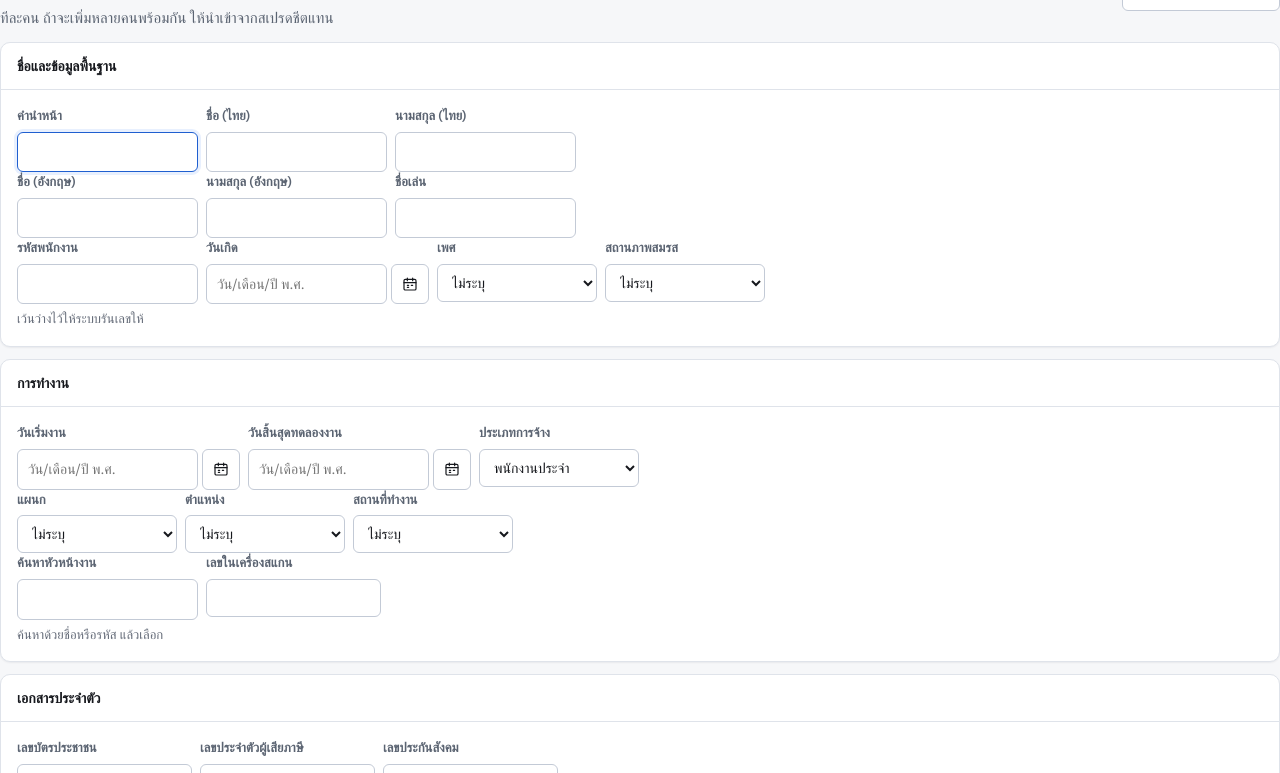
it: Adding one employee from the console (CW-065) › says so when the employee code is already used
Type "วิภา" into the field labelled "ชื่อ (ไทย)" at point(296, 152), box [206, 132, 387, 172]
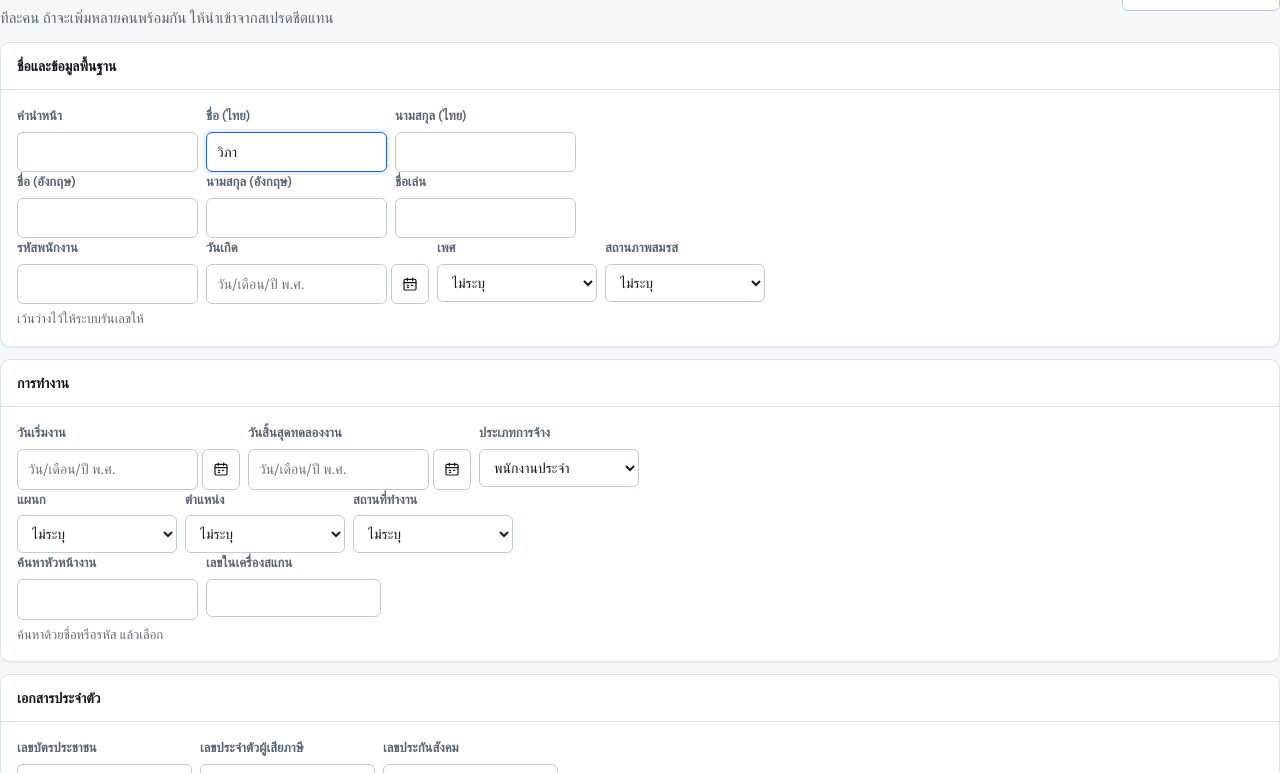
Type "ใจดี" into the field labelled "นามสกุล (ไทย)" at point(486, 152), box [395, 132, 576, 172]
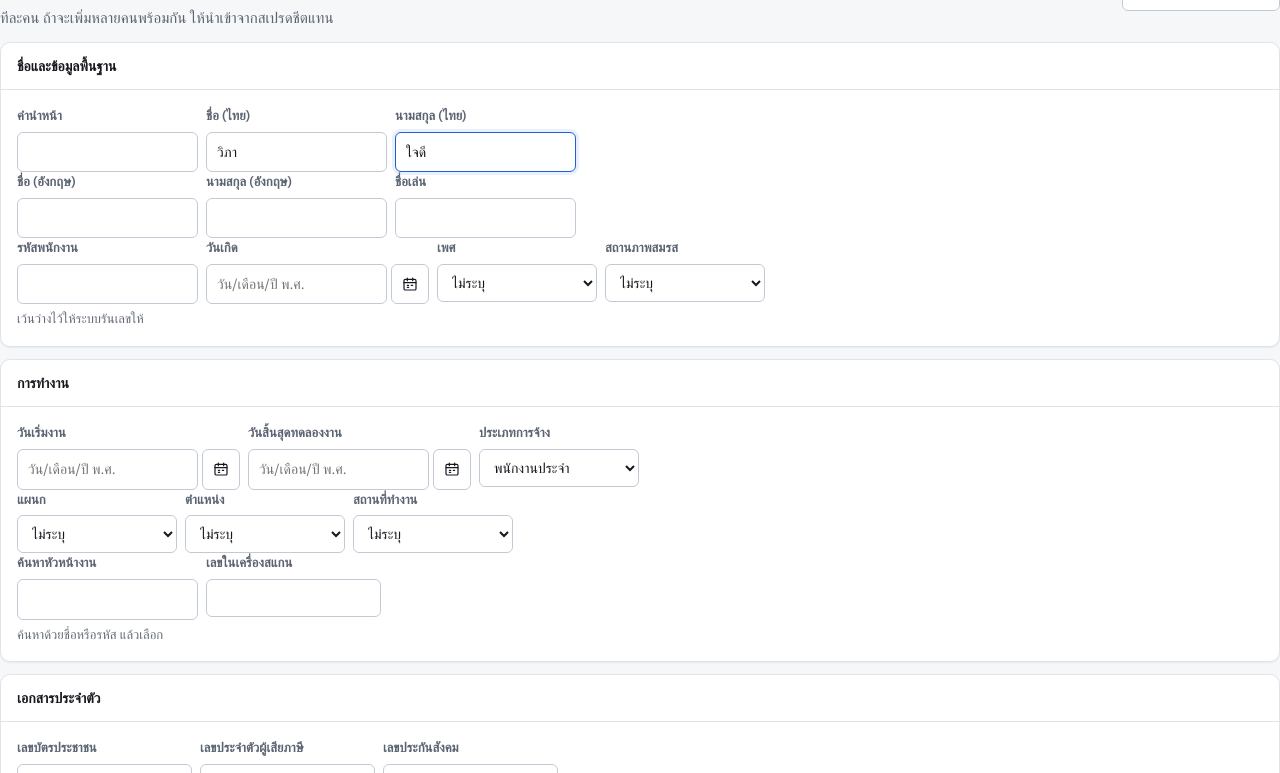
Type "2026-10-01" into the field labelled "วันเริ่มงาน" at point(108, 469), box [17, 449, 198, 490]
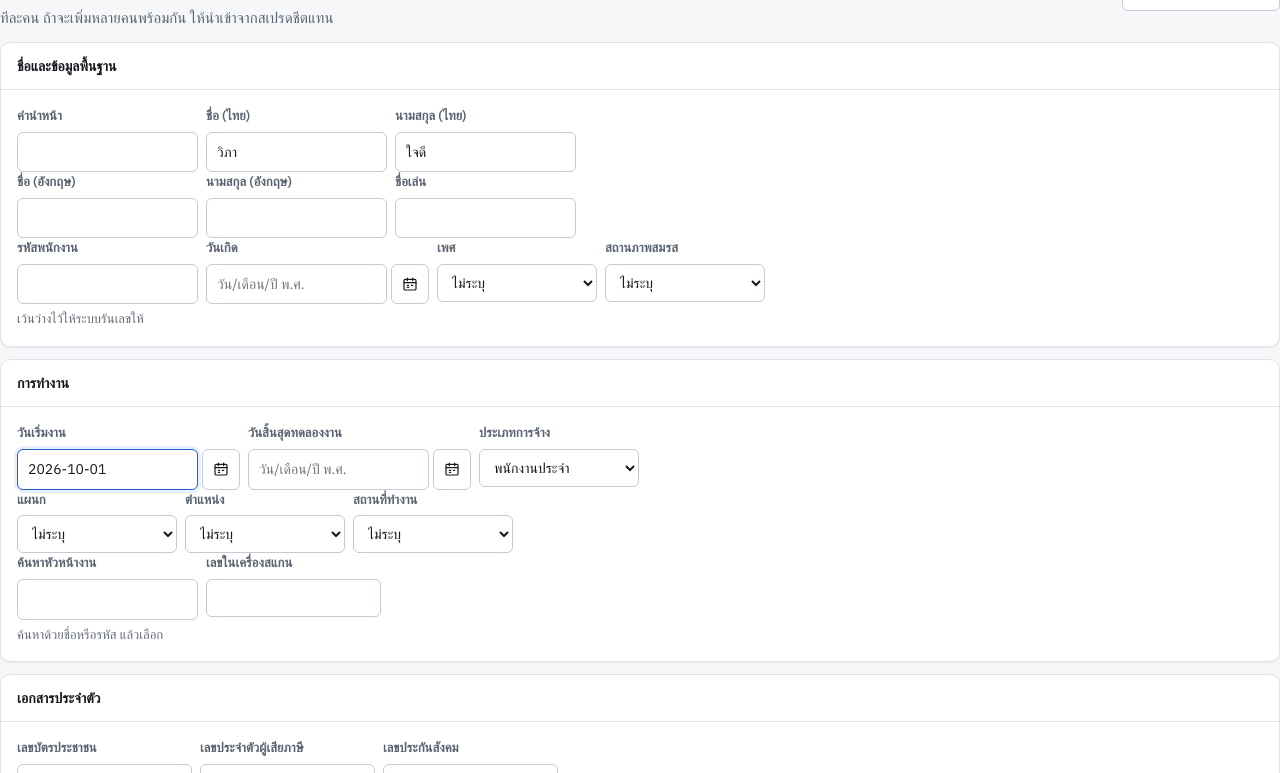
Type "E1" into the field labelled "รหัสพนักงาน" at point(108, 284), box [17, 264, 198, 304]
(page scrolled)
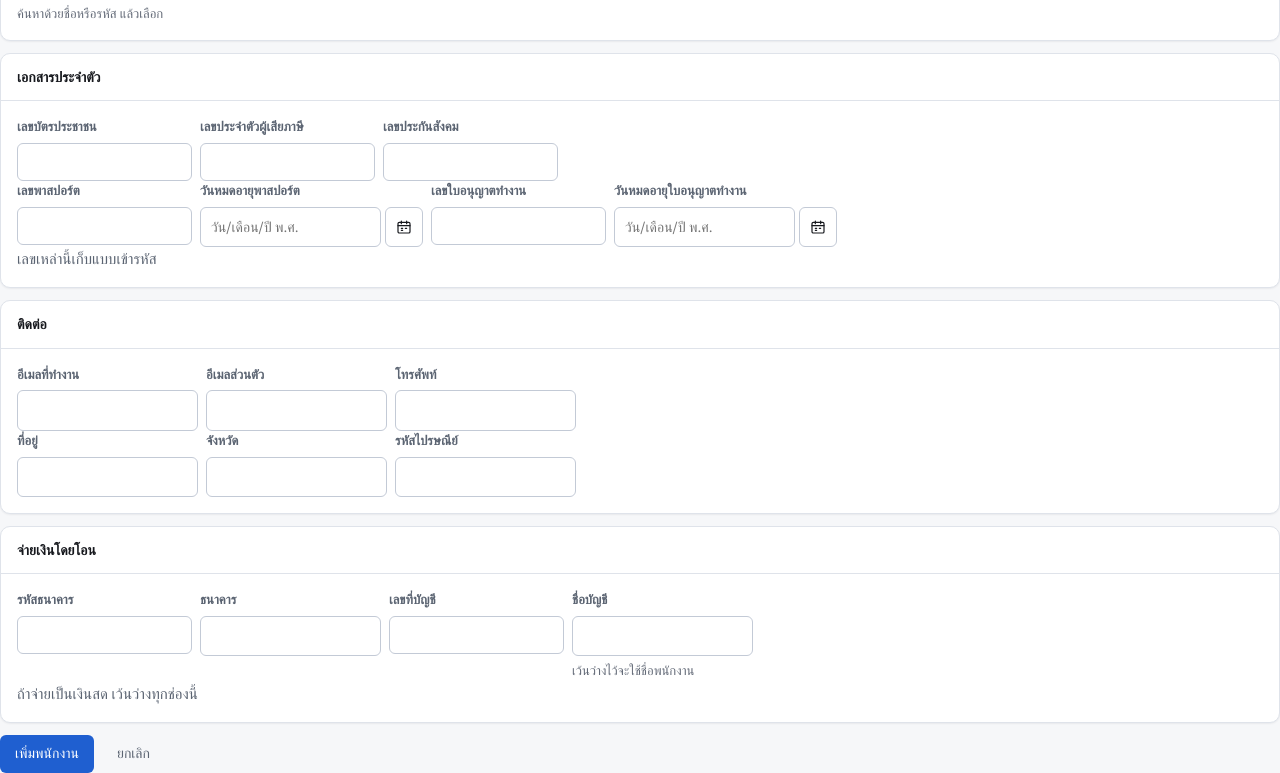
Click the button "เพิ่มพนักงาน" at point(47, 754), box [0, 735, 94, 772]
(page scrolled)
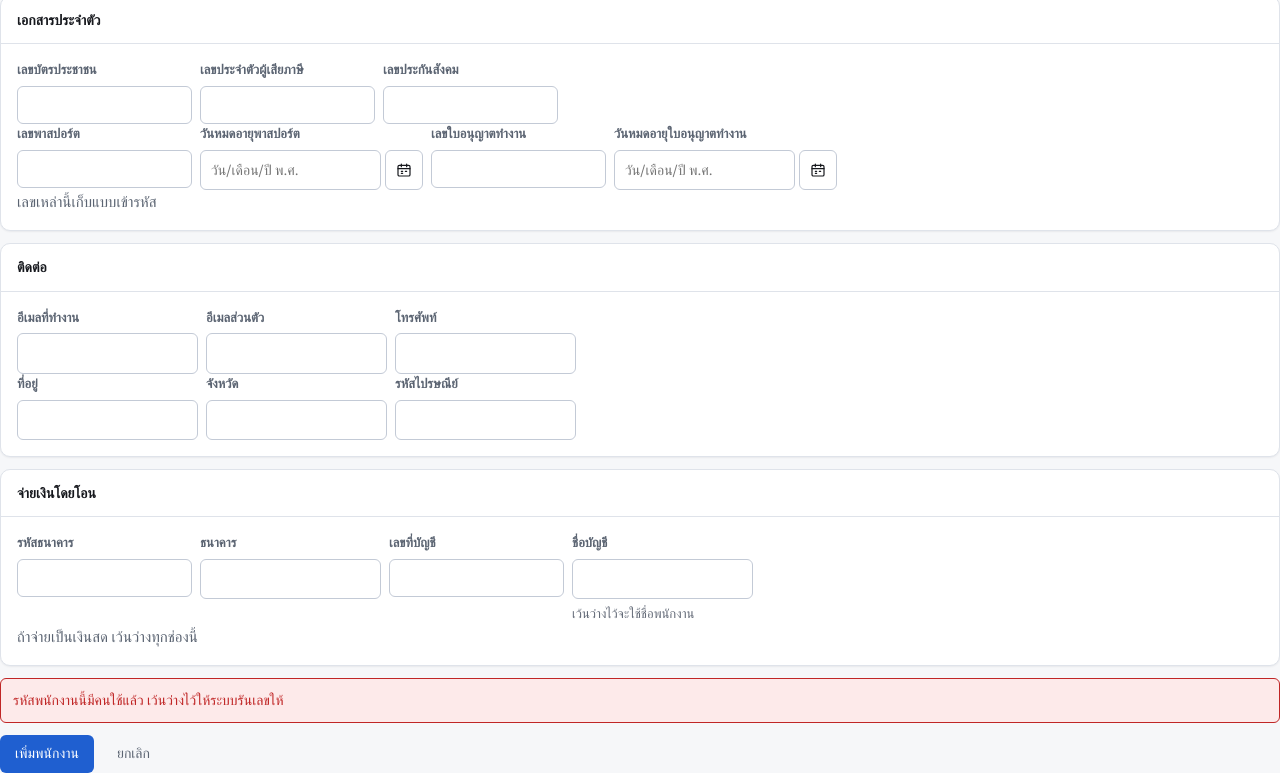
Expected: the message shows "รหัสพนักงานนี้มีคนใช้แล้ว", [13, 691, 284, 709]
